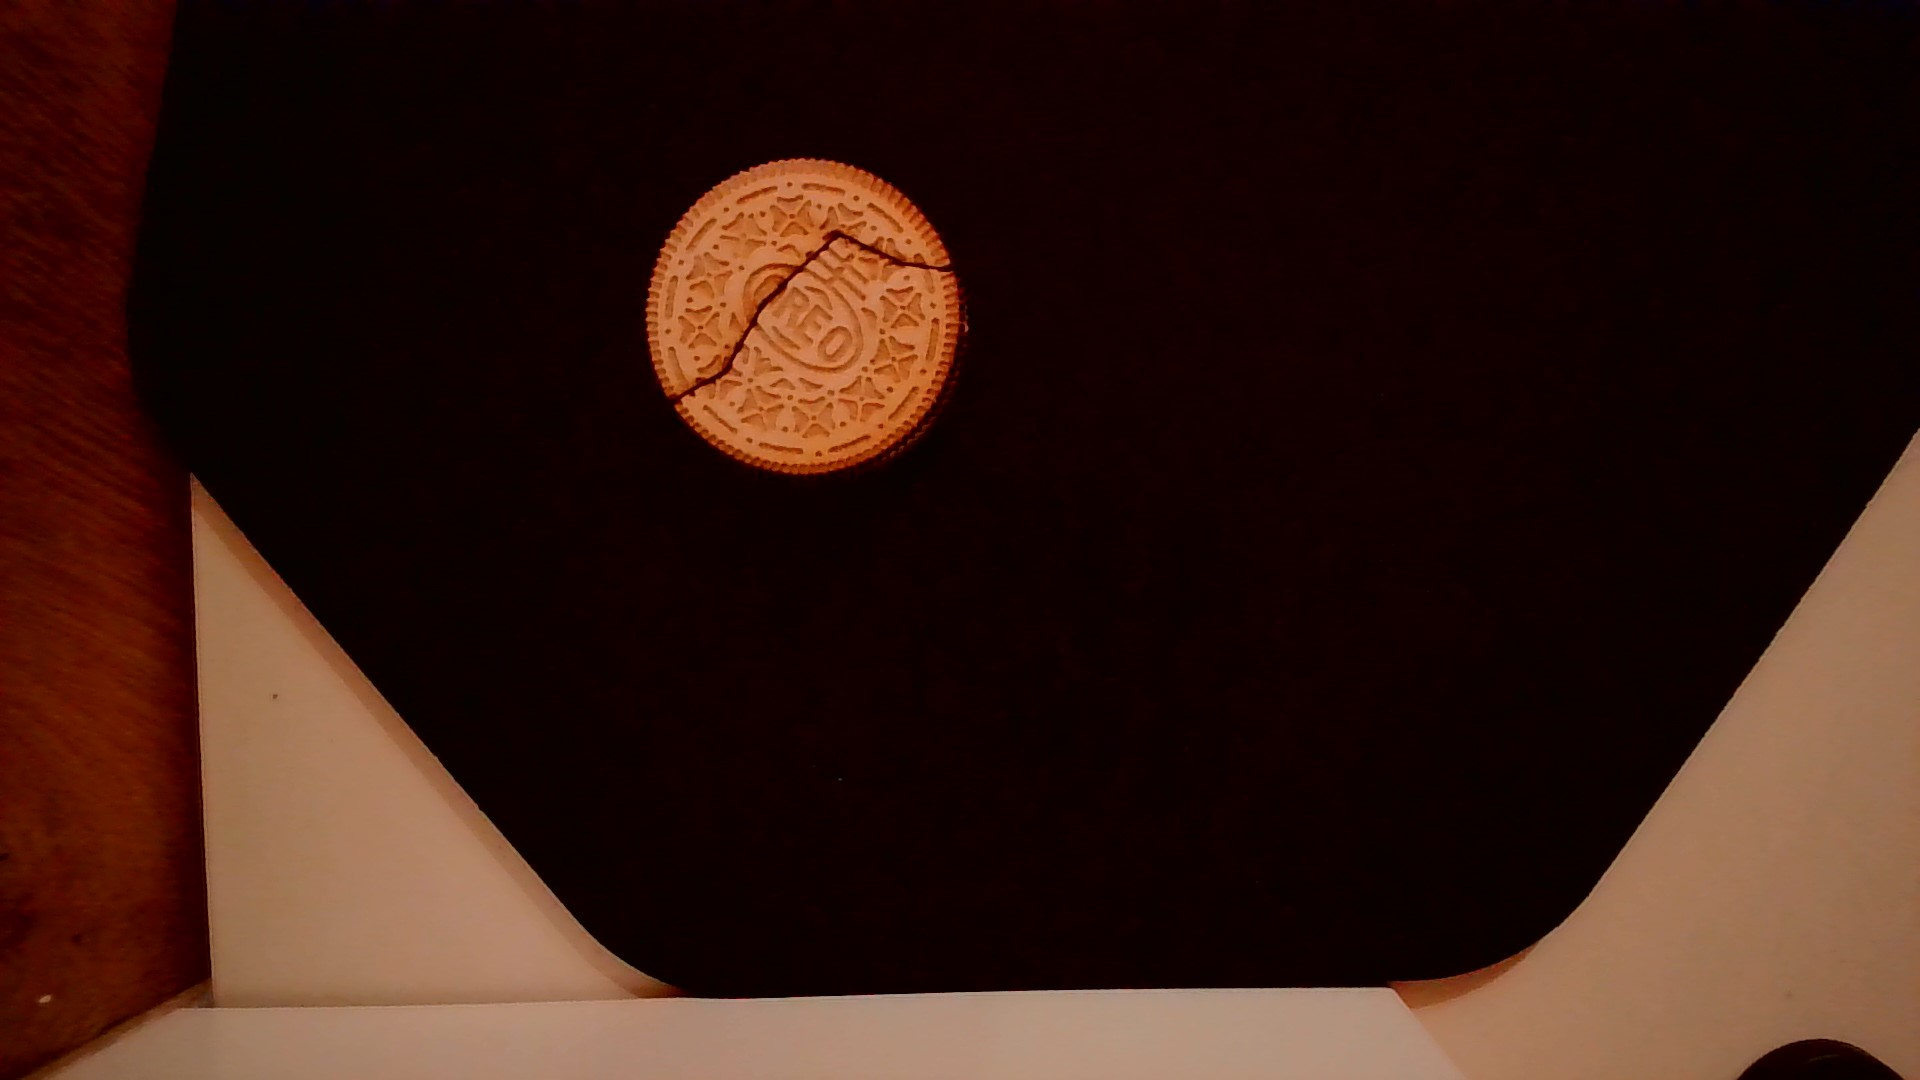Fissure: (657, 225, 963, 411)
Oréo: (640, 146, 967, 477)
